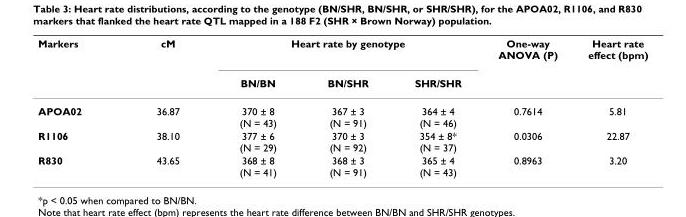table: (37, 36, 647, 177)
table column: (208, 36, 301, 177), (479, 36, 572, 177), (118, 36, 208, 177), (301, 36, 390, 177), (390, 36, 479, 177), (37, 36, 118, 177), (572, 36, 647, 177)
table column header: (37, 36, 647, 96)
table row: (37, 36, 647, 68), (37, 96, 647, 128), (37, 68, 647, 96), (37, 128, 647, 153), (37, 153, 647, 177)
table spanning cell: (208, 36, 479, 68), (479, 36, 572, 96), (118, 36, 208, 96), (37, 36, 118, 96), (572, 36, 647, 96)
